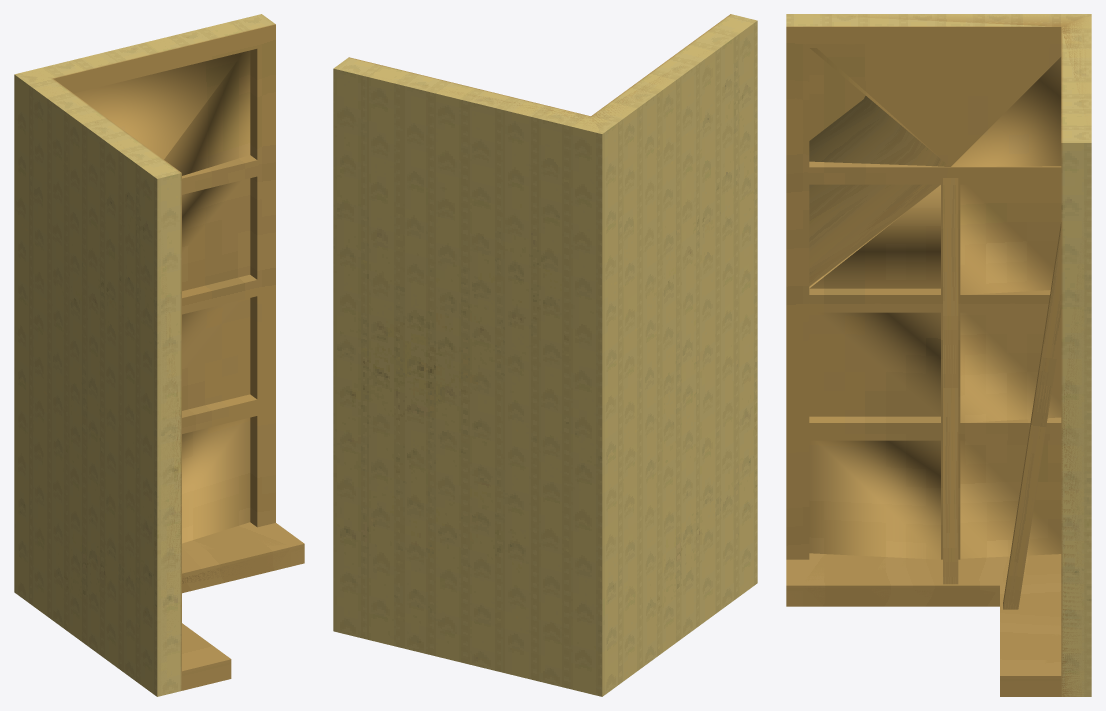
File: item_backrooms_corner_out.glb
The picture shows the model from 3 angles, left to right: view 1: azimuth 30°, elevation 25°; view 2: azimuth 150°, elevation 25°; view 3: azimuth 270°, elevation 25°; orthographic projection. The views are drawn at different scales.
Parts seen in each view (by area): view 1: backrooms_corner_out; view 2: backrooms_corner_out; view 3: backrooms_corner_out.
Boxes of the visible parts, bbox=[...] form: backrooms_corner_out: bbox=[14, 14, 304, 696]; backrooms_corner_out: bbox=[333, 14, 757, 696]; backrooms_corner_out: bbox=[786, 14, 1091, 696].
Bounding box in the file's own units: 1 × 2 × 1.
1 material, 1 textured.
